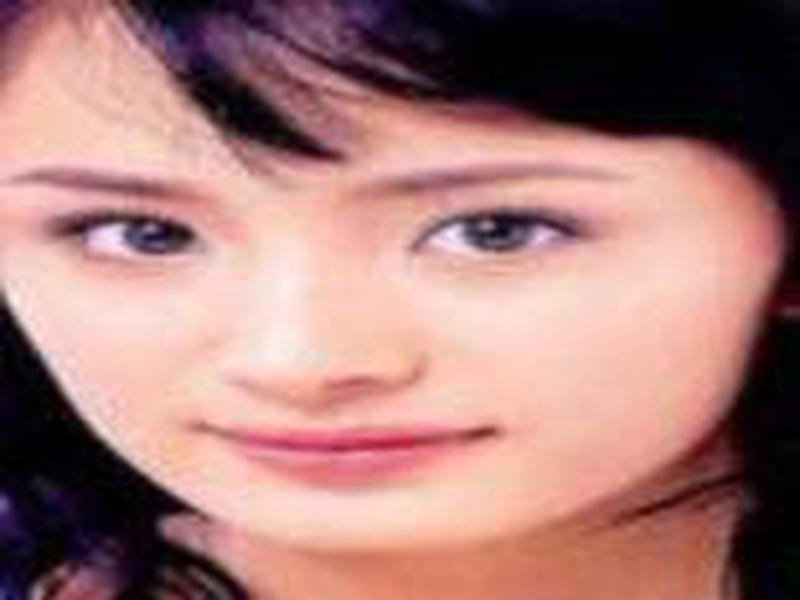without_mask: (4, 73, 778, 555)
